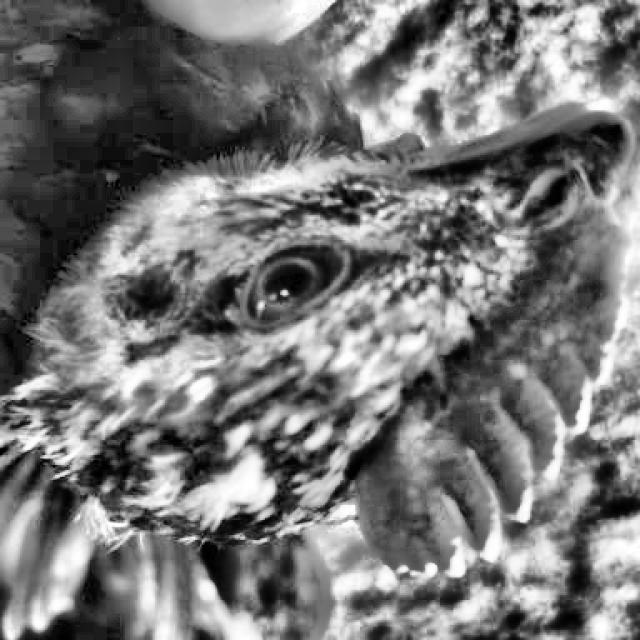Healthy: (228, 226, 370, 362)
